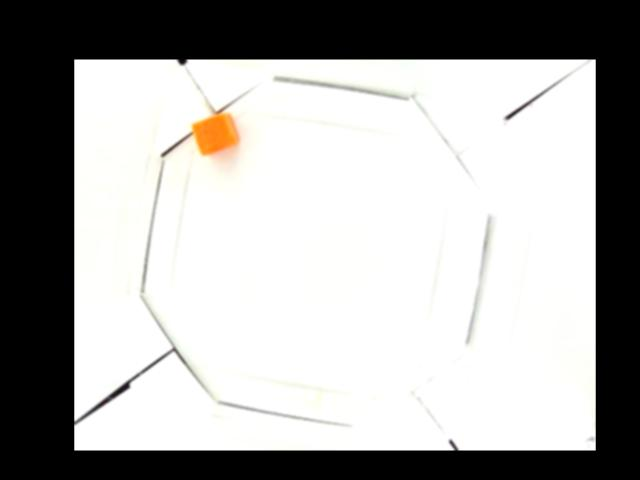Carrot: (190, 112, 238, 156)
